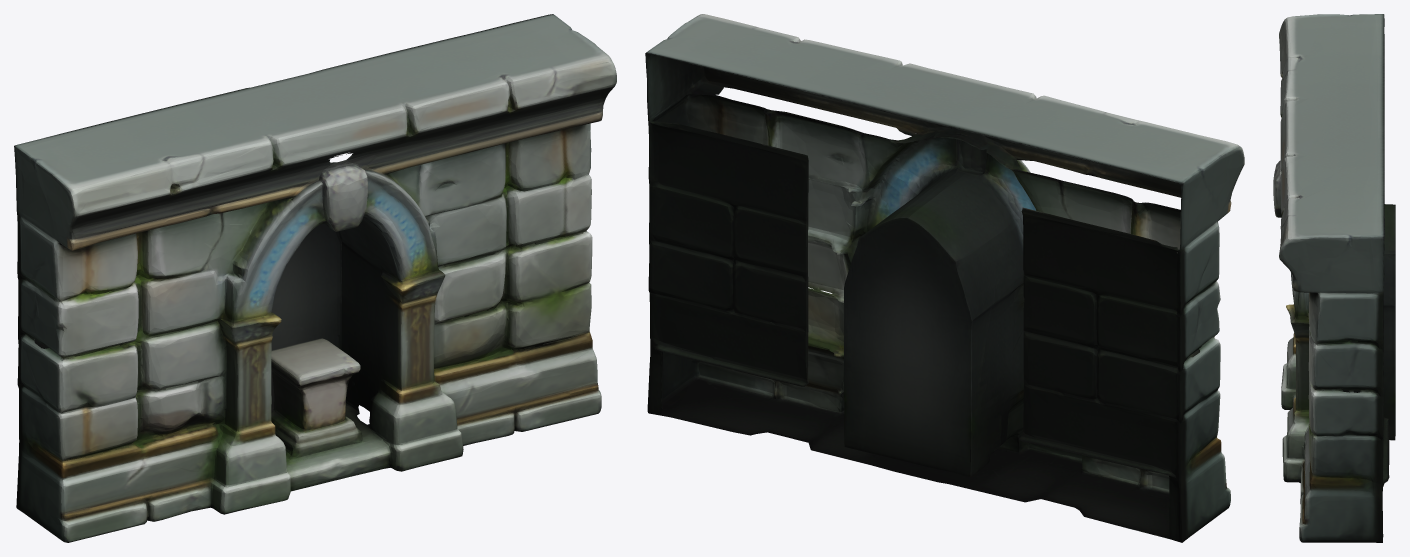
Rendered from wall_alcove.glb.
3 renders of one model, left to right at view 1: azimuth 30°, elevation 25°; view 2: azimuth 150°, elevation 25°; view 3: azimuth 270°, elevation 25°, orthographic. The views are drawn at different scales.
Parts seen in each view (by area): view 1: world; view 2: world; view 3: world.
Boxes of the visible parts, x1,y1,x2,y2 form: world: [14, 14, 616, 542]; world: [645, 14, 1244, 542]; world: [1273, 14, 1395, 542].
Bounding box in the file's own units: 0.994 × 0.6366 × 0.2295.
Materials: 1 (1 with a texture image).
